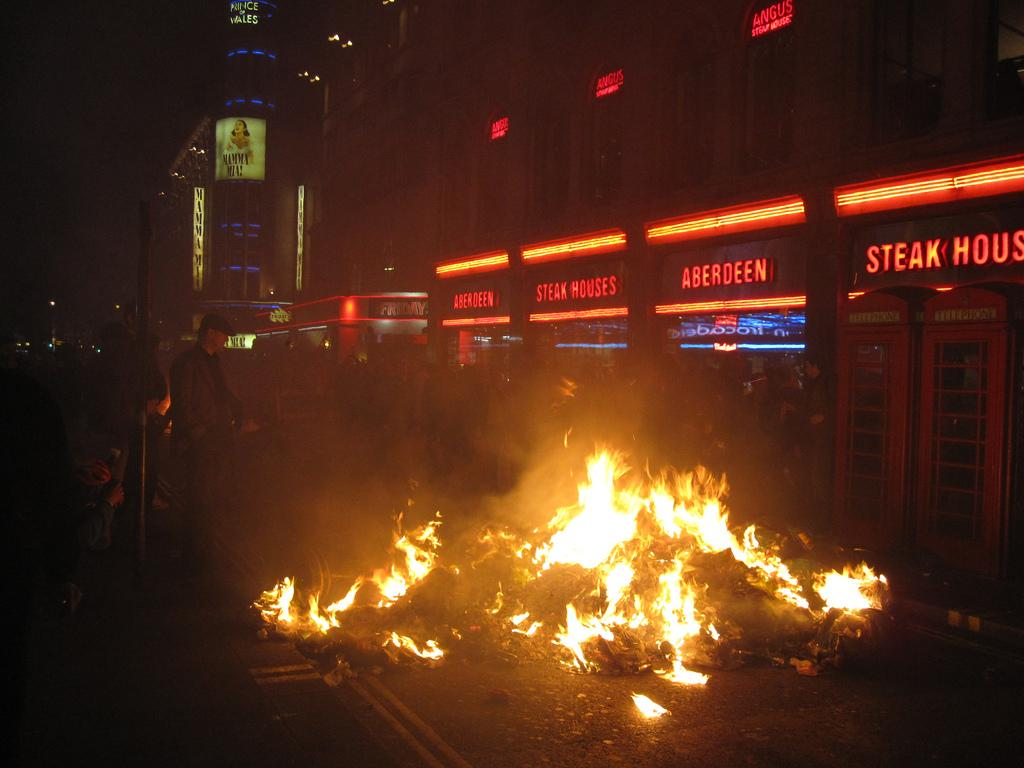fire: (552, 458, 722, 690), (790, 560, 882, 610), (368, 540, 436, 594), (276, 586, 340, 634)
